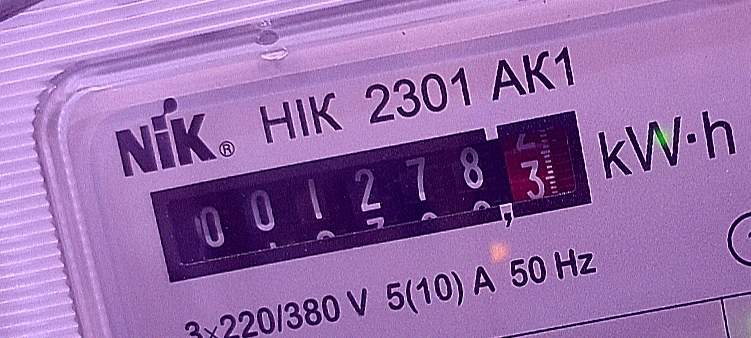0: (194, 201, 226, 251), (244, 186, 275, 236)
1: (301, 173, 324, 222)
2: (349, 166, 381, 215), (510, 130, 536, 152)
3: (515, 157, 546, 203)
7: (401, 155, 428, 204)
8: (455, 145, 484, 191)
screen: (129, 96, 611, 297)
